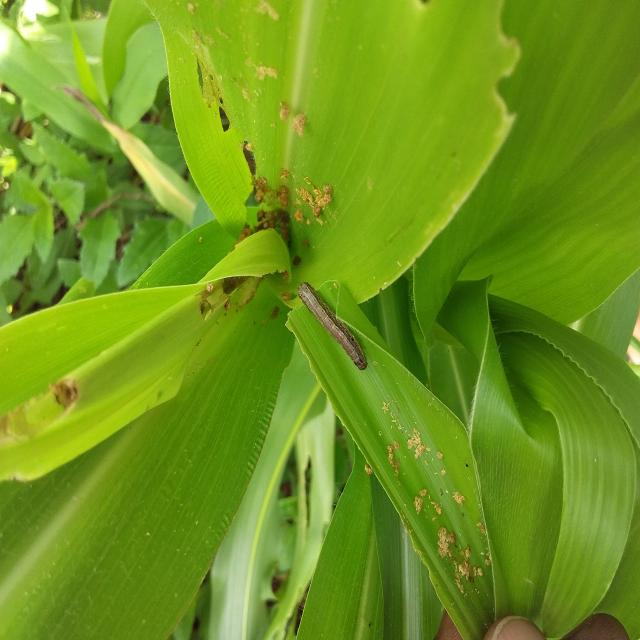yellow-stem-borer-larva: (279, 268, 386, 381)
